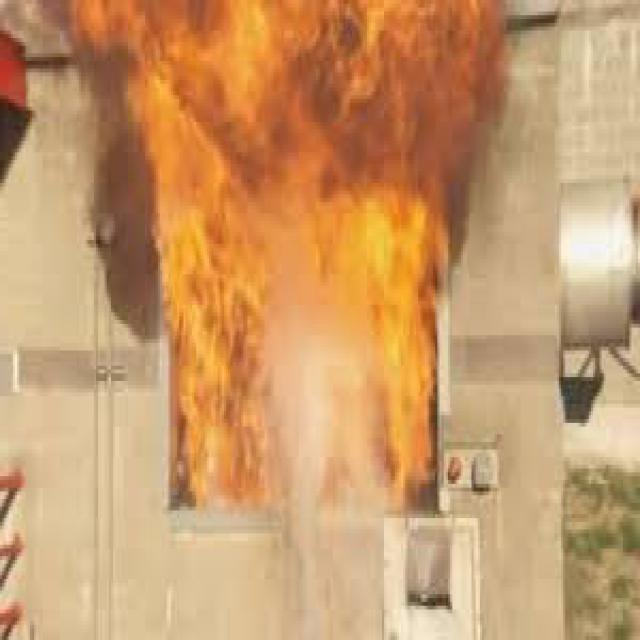Fire: (59, 0, 518, 517)
Smoke: (260, 318, 385, 640)
